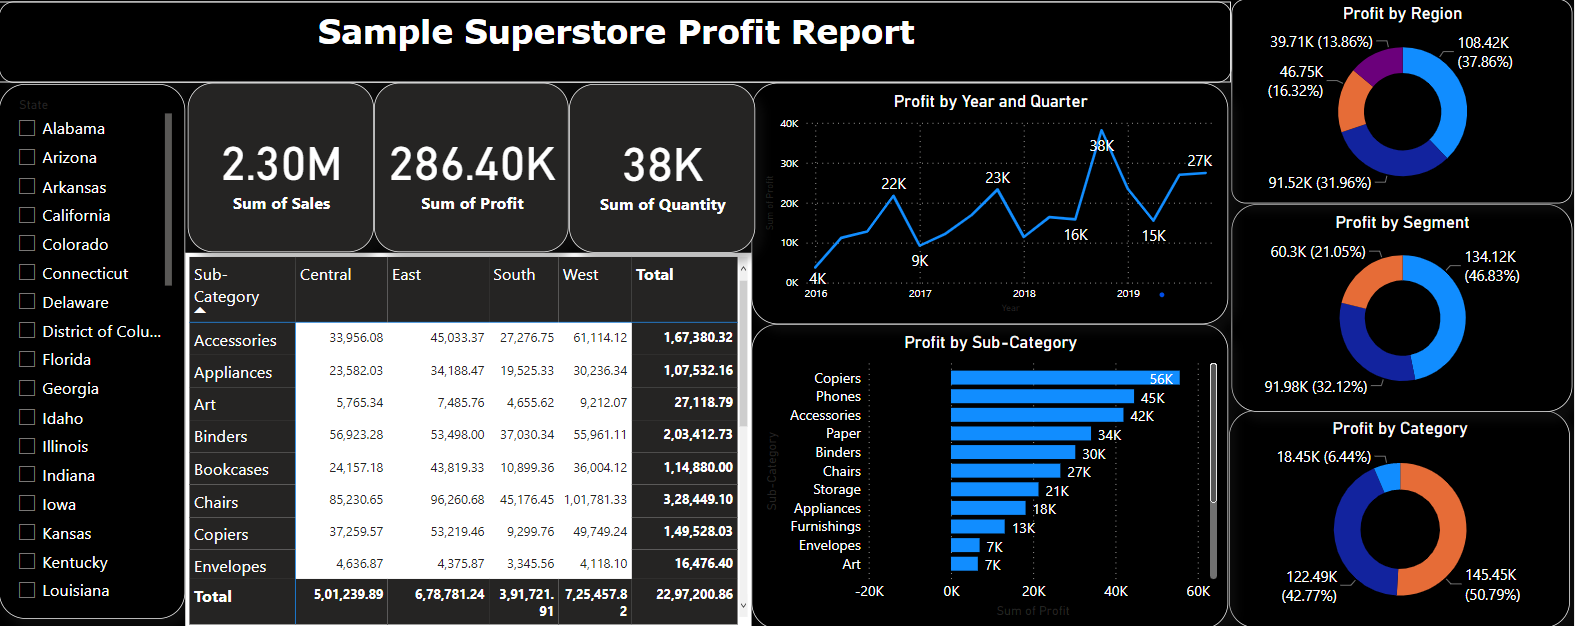

This screenshot's page, from the dashboard's own definition file:
{"tool":"powerbi","page":{"name":"Page 1","canvas":[1800,720],"ordinal":0},"visuals":[{"type":"textbox","box":[15.7,15.7,1392.9,67.1],"z":0},{"type":"donutChart","title":"Profit by Category","fields":{"Category":["Orders.Category"],"Y":["Sum(Orders.Profit)"]},"box":[1432.9,470,352.9,228.6],"z":1000},{"type":"donutChart","title":"Profit by Segment","fields":{"Y":["Sum(Orders.Profit)"],"Category":["Orders.Segment"]},"box":[1432.9,234.3,352.9,202.9],"z":2000},{"type":"donutChart","title":"Profit by Region","fields":{"Y":["Sum(Orders.Profit)"],"Category":["Orders.Region"]},"box":[1432.9,15.7,352.9,197.1],"z":3000},{"type":"barChart","title":" Profit by Sub-Category","fields":{"Category":["Orders.Sub-Category"],"Y":["Sum(Orders.Profit)"]},"box":[885.7,382.9,522.9,315.7],"z":4000},{"type":"lineChart","title":"Profit by Year and Quarter","fields":{"Category":["Orders.Order Date.Variation.Date Hierarchy.Year","Orders.Order Date.Variation.Date Hierarchy.Quarter","Orders.Order Date.Variation.Date Hierarchy.Month","Orders.Order Date.Variation.Date Hierarchy.Day"],"Y":["Sum(Orders.Profit)"]},"box":[885.7,95.7,522.9,264.3],"z":5000},{"type":"slicer","fields":{"Values":["Orders.State"]},"box":[15.7,97.1,197.1,601.4],"z":6000},{"type":"pivotTable","fields":{"Columns":["Orders.Region"],"Rows":["Orders.Sub-Category"],"Values":["Sum(Orders.Sales)"]},"box":[232.9,315.7,631.4,382.9],"z":7000},{"type":"card","fields":{"Values":["Sum(Orders.Sales)"]},"box":[232.9,97.1,195.7,192.9],"z":8000},{"type":"card","fields":{"Values":["Sum(Orders.Profit)"]},"box":[447.1,97.1,204.3,192.9],"z":9000},{"type":"card","fields":{"Values":["Sum(Orders.Quantity)"]},"box":[668.6,95.7,195.7,194.3],"z":10000}]}

Visuals, with their boxes in screenshot pixels (x1, y1, x2, y2), scaled from the page's 1800x720 canvas onto the 1575x626 screenshot:
textbox: <bbox>14, 14, 1233, 72</bbox>
"Profit by Category" donutChart: <bbox>1254, 409, 1563, 607</bbox>
"Profit by Segment" donutChart: <bbox>1254, 204, 1563, 380</bbox>
"Profit by Region" donutChart: <bbox>1254, 14, 1563, 185</bbox>
" Profit by Sub-Category" barChart: <bbox>775, 333, 1233, 607</bbox>
"Profit by Year and Quarter" lineChart: <bbox>775, 83, 1233, 313</bbox>
slicer - Orders.State: <bbox>14, 84, 186, 607</bbox>
pivotTable - Orders.Region x Orders.Sub-Category: <bbox>204, 274, 756, 607</bbox>
card - Sum(Orders.Sales): <bbox>204, 84, 375, 252</bbox>
card - Sum(Orders.Profit): <bbox>391, 84, 570, 252</bbox>
card - Sum(Orders.Quantity): <bbox>585, 83, 756, 252</bbox>
